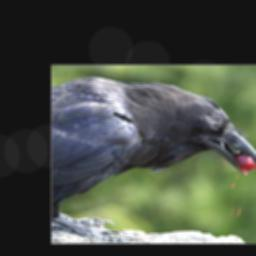Crow: (51, 75, 256, 243)
